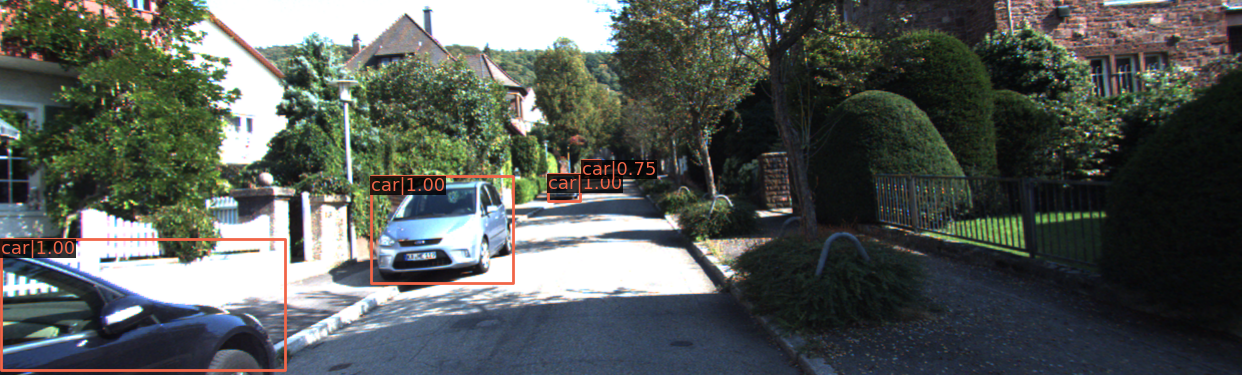car: (1, 188, 296, 375), (370, 181, 514, 282), (548, 176, 581, 202)
